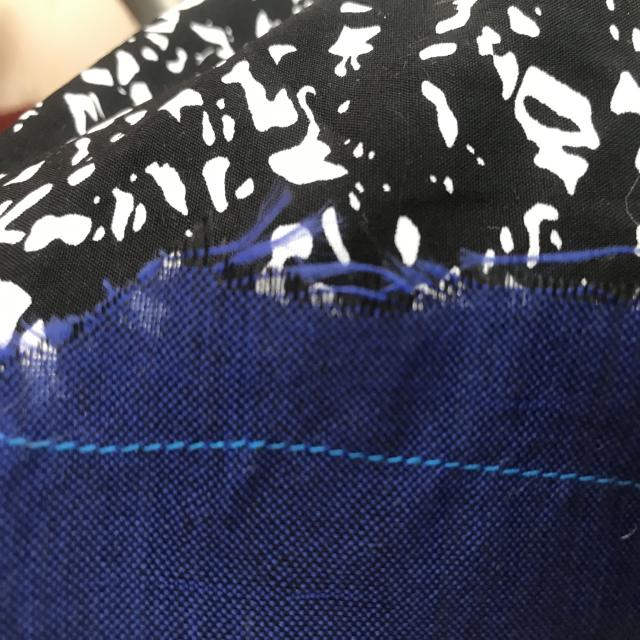good: (334, 439, 445, 478), (486, 454, 590, 489)
